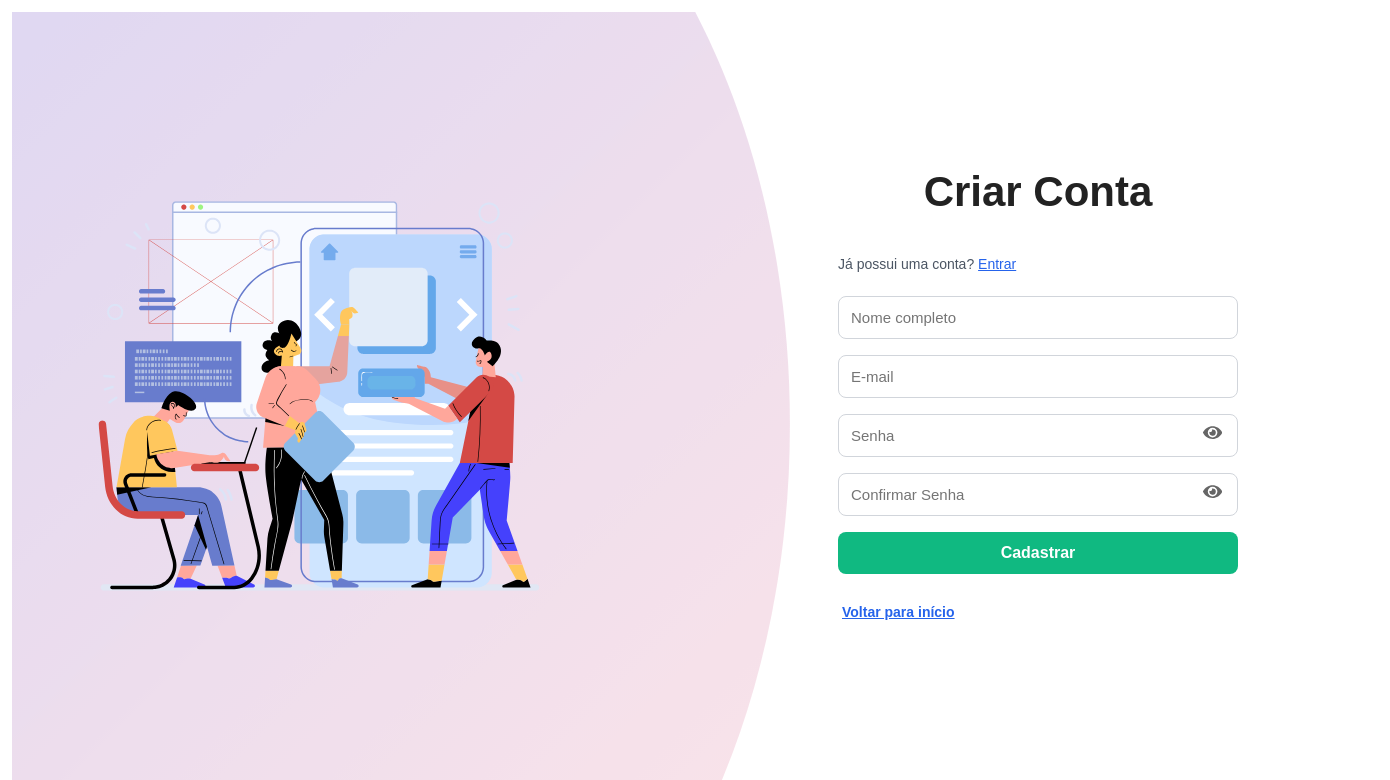
Scenario: Cadastro › deve mostrar erro se senhas forem diferentes
Type "senha123" into the password field with placeholder "Senha" at (1038, 436), box [838,414,1238,457]
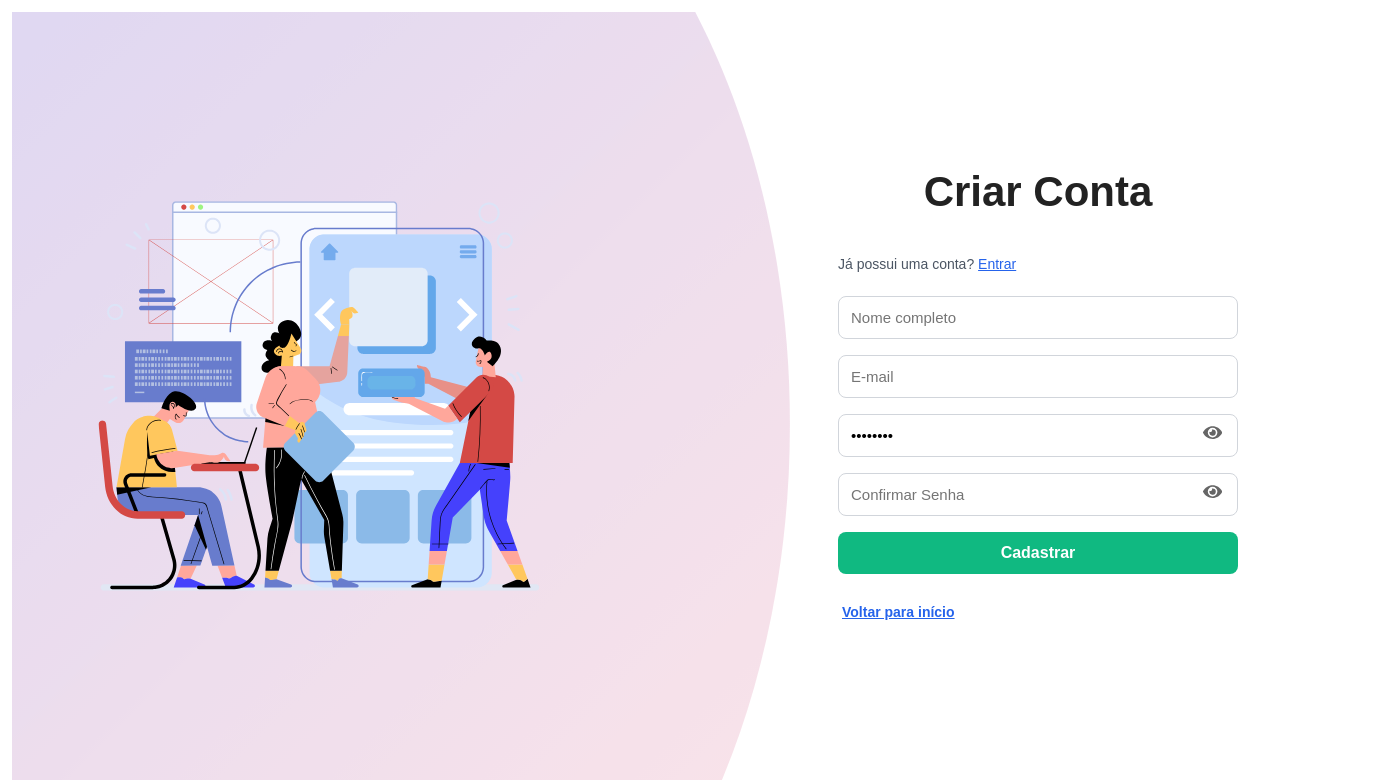
Type "outraSenha" into the password field with placeholder "Confirmar Senha" at (1038, 494), box [838,473,1238,516]
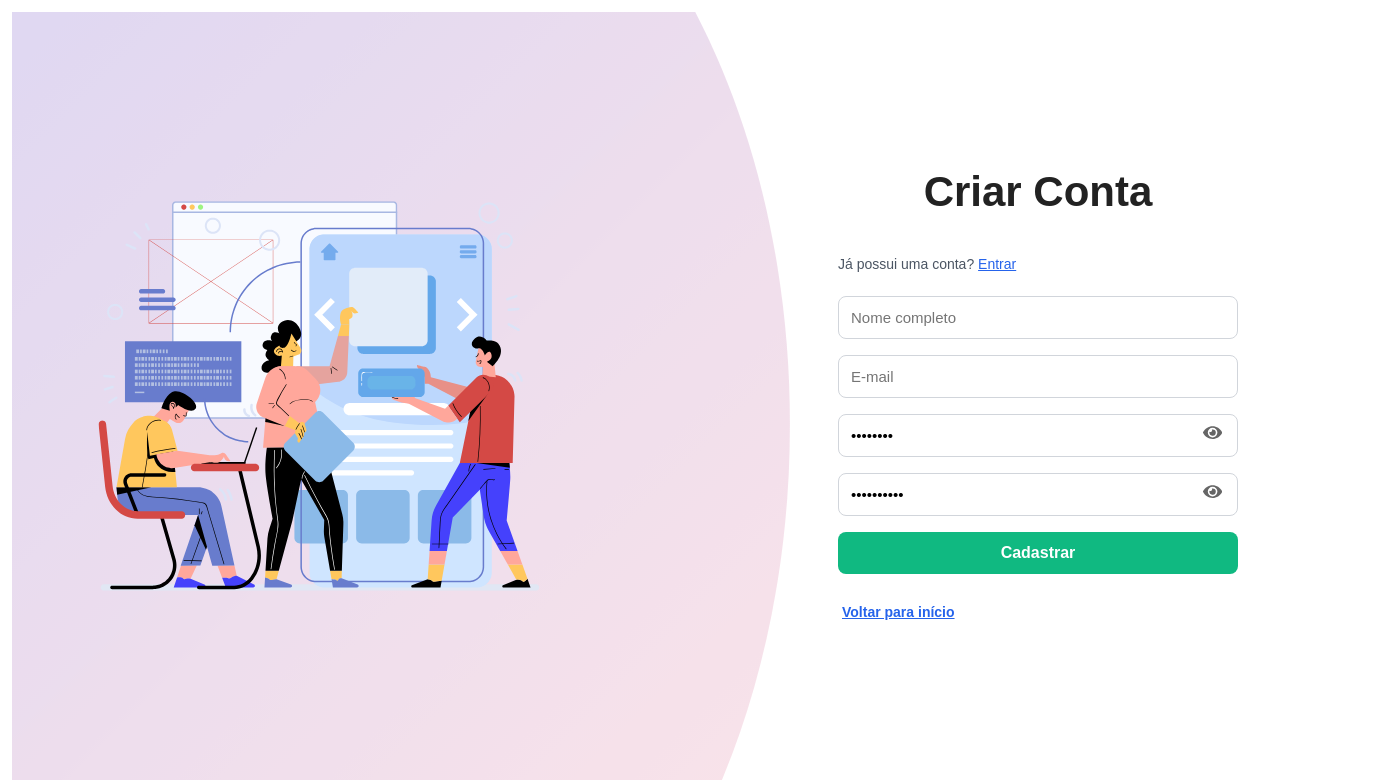
Click the button "Cadastrar" at (1038, 553), box [838,532,1238,574]
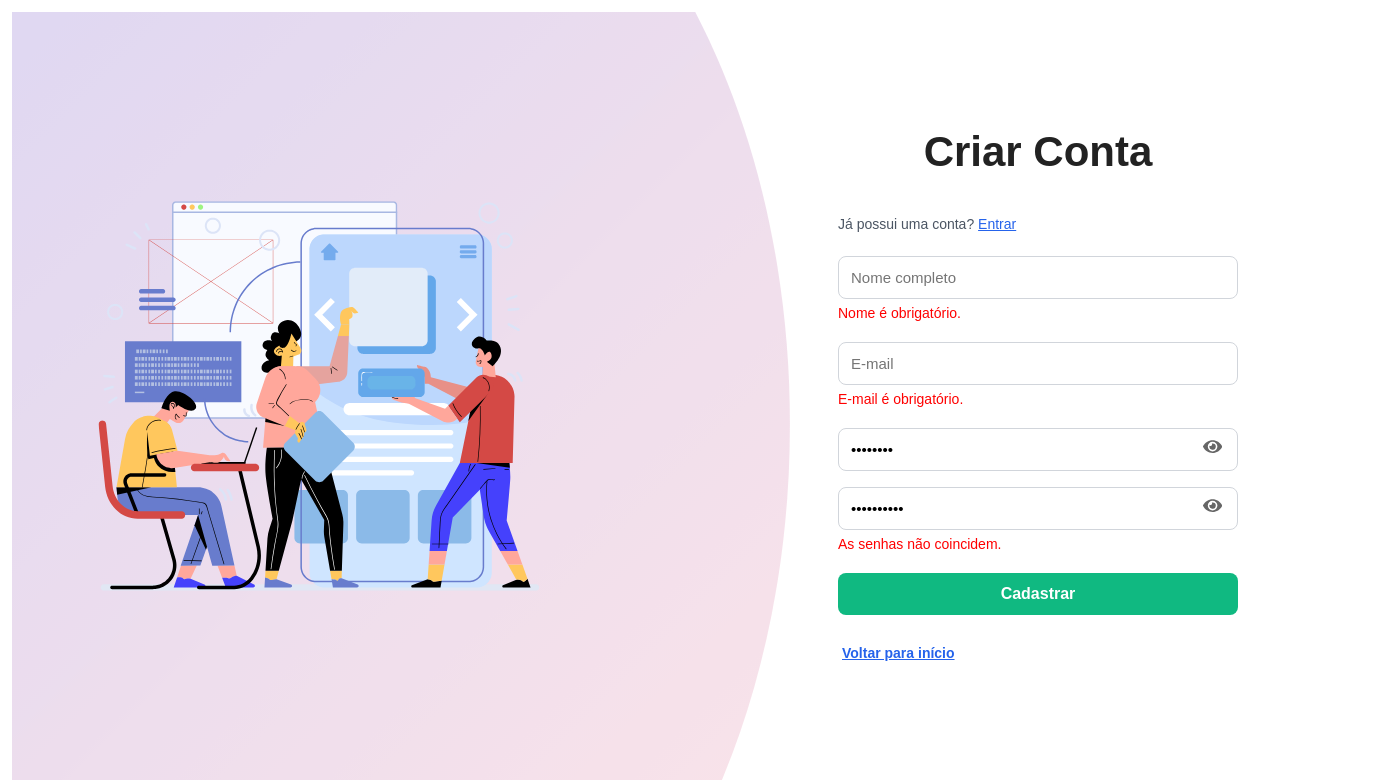
Now the text "As senhas não coincidem." is shown, box [838,536,1001,552]
